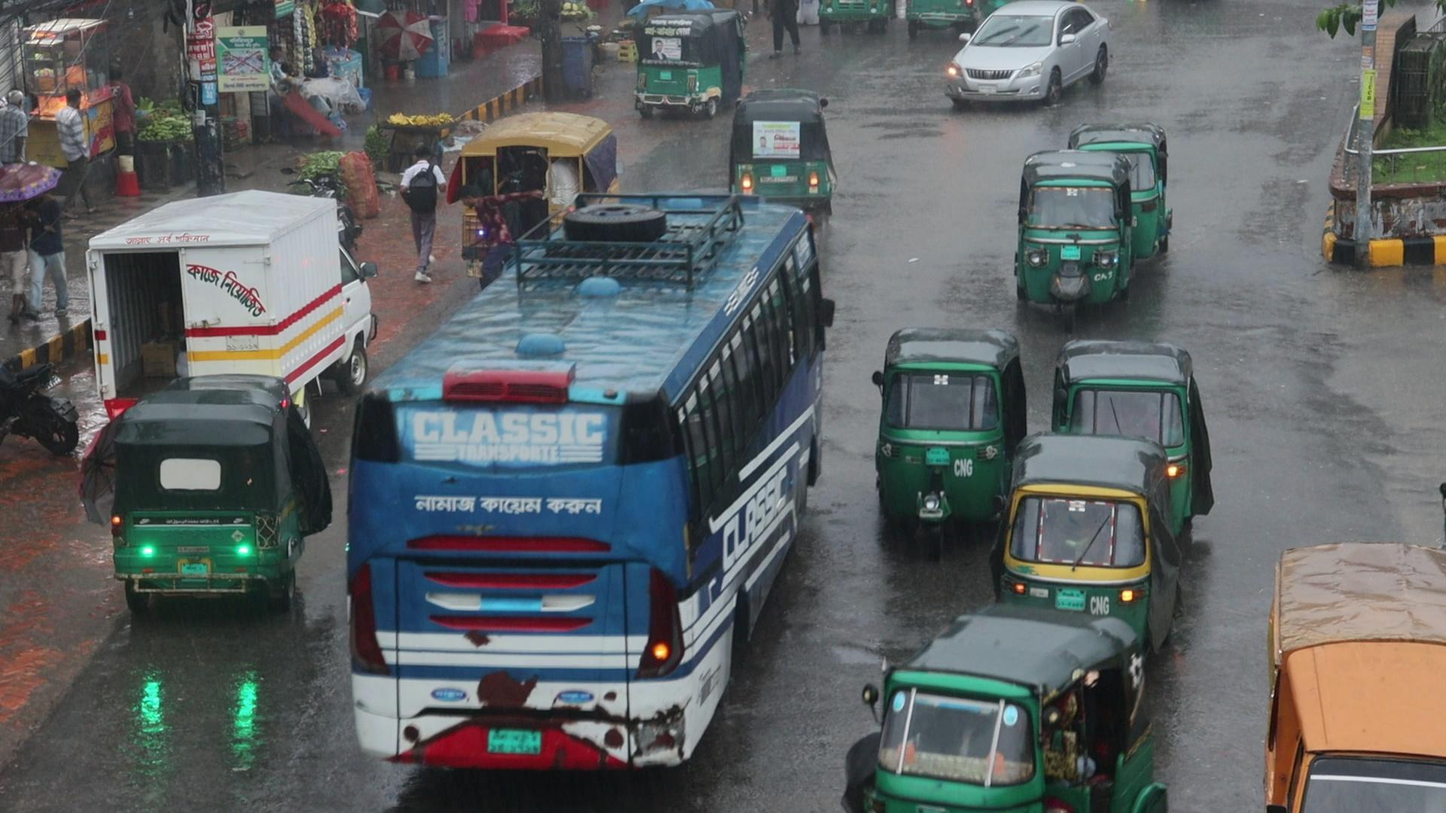Bus: (343, 191, 826, 771)
Car: (944, 0, 1113, 108)
